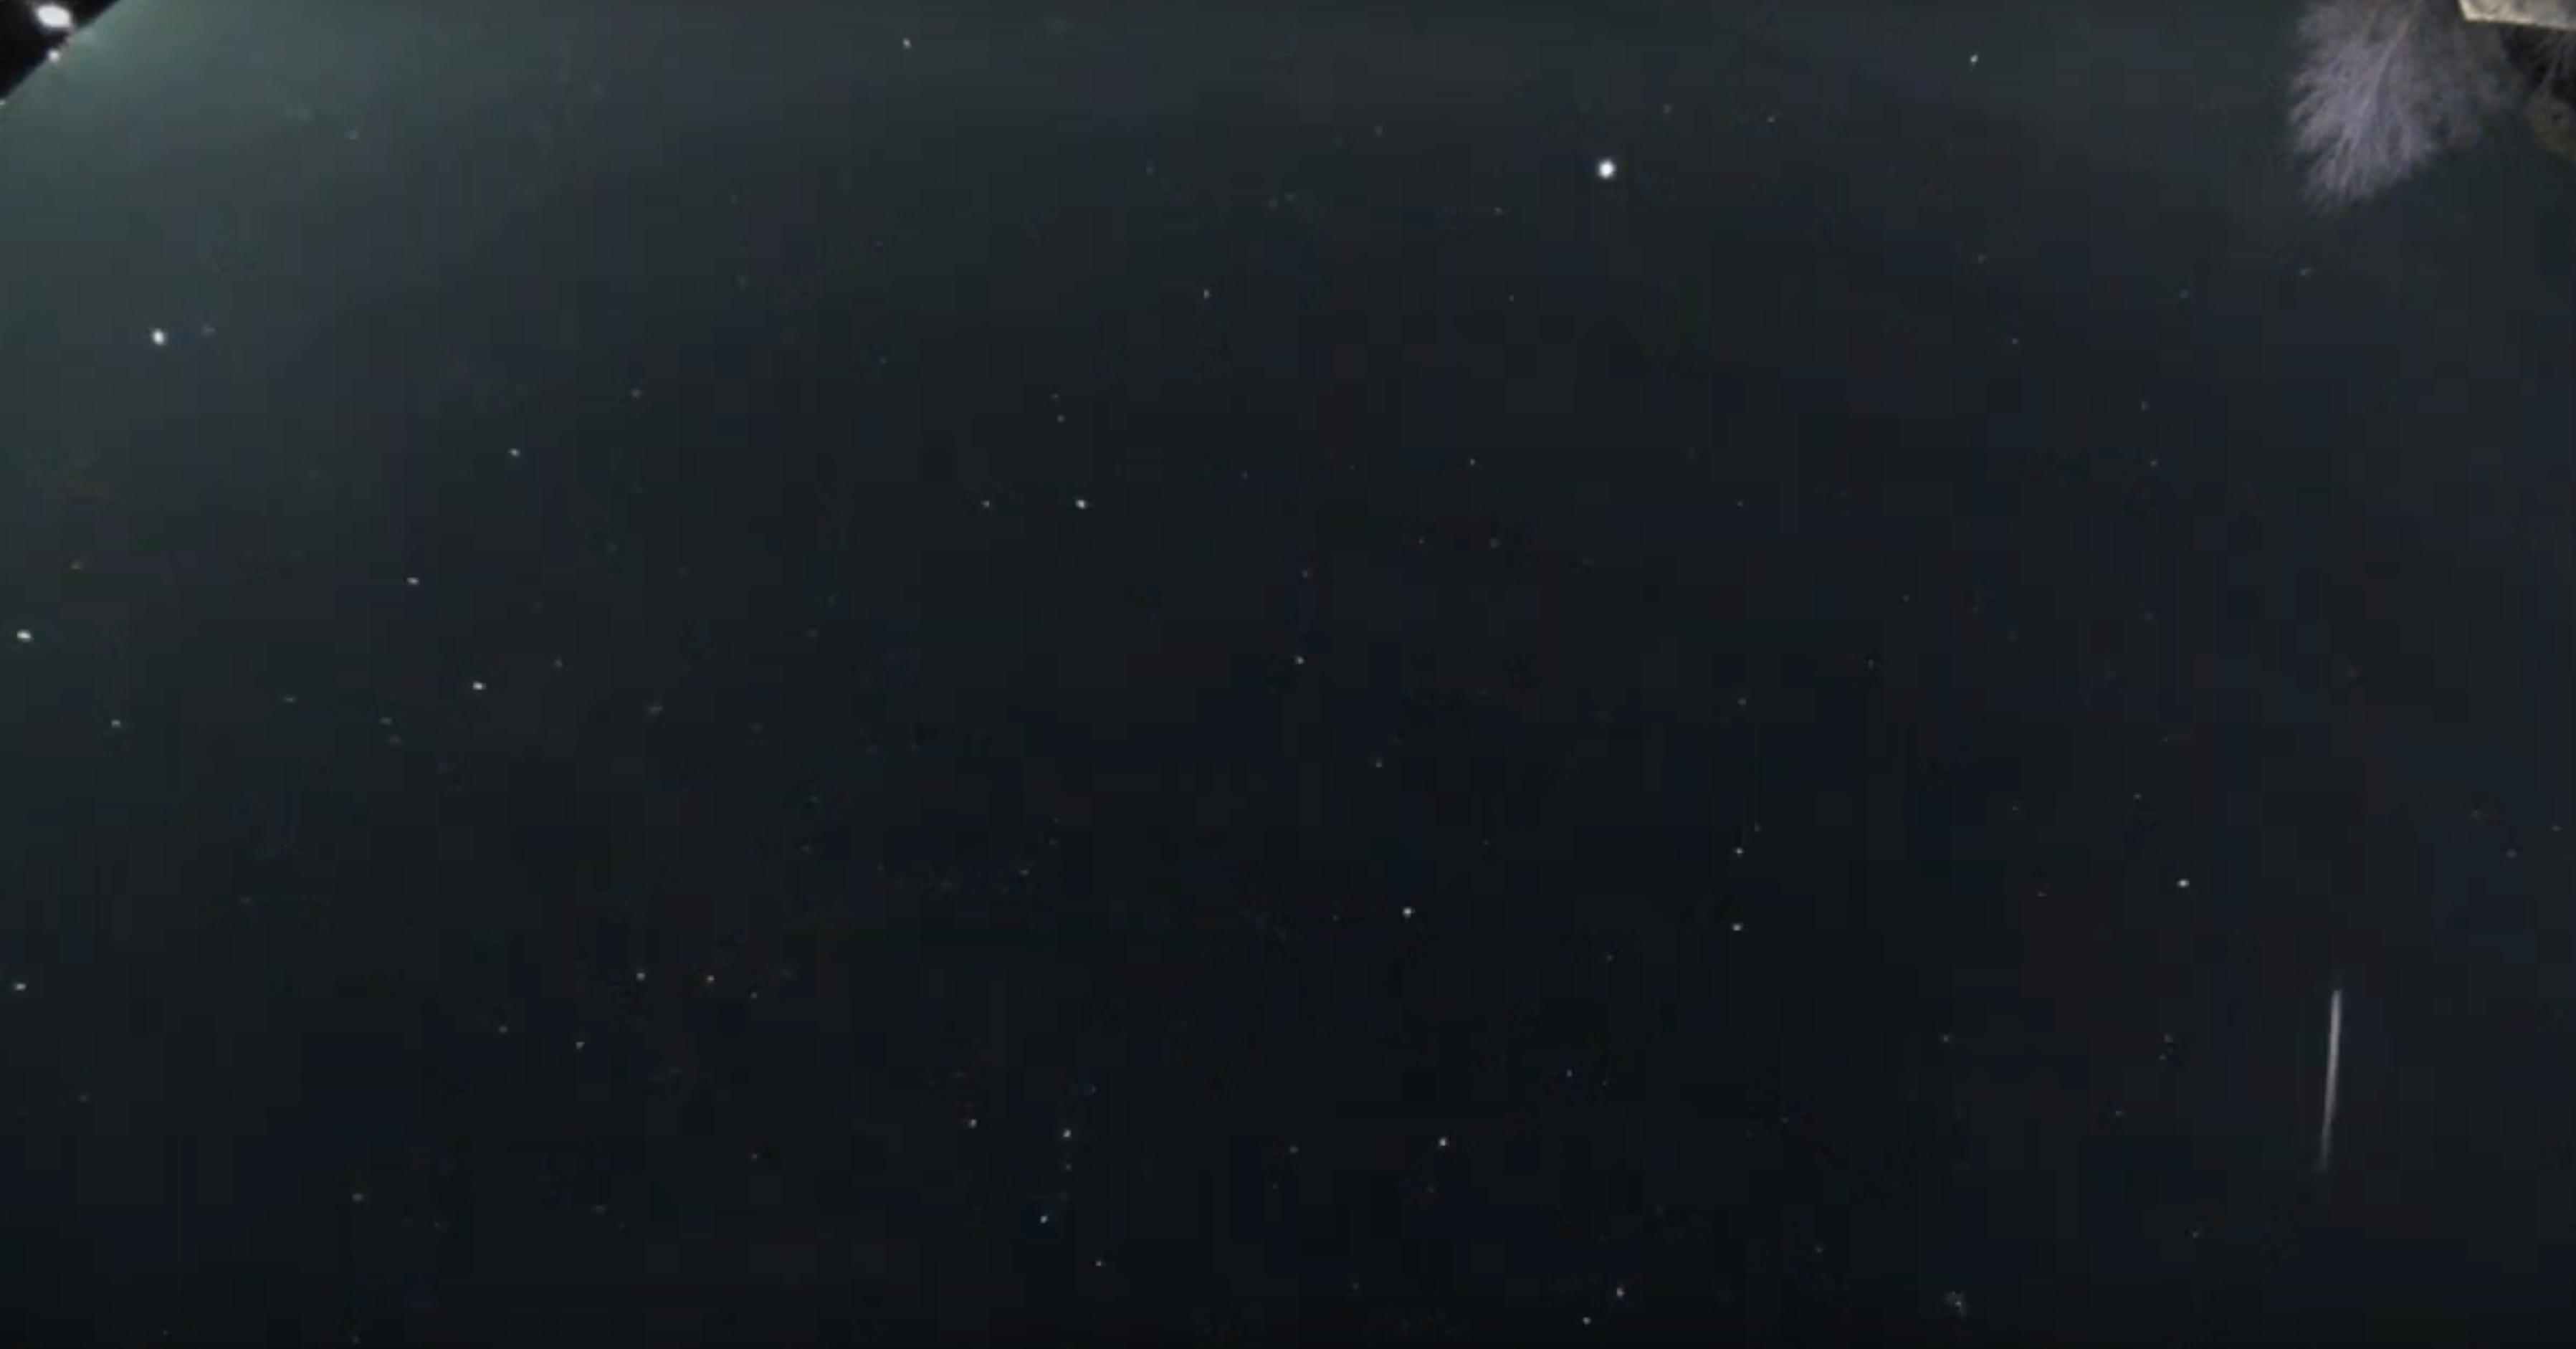Plane: (1915, 1252, 1990, 1335)
meteorite: (2271, 932, 2401, 1168)
